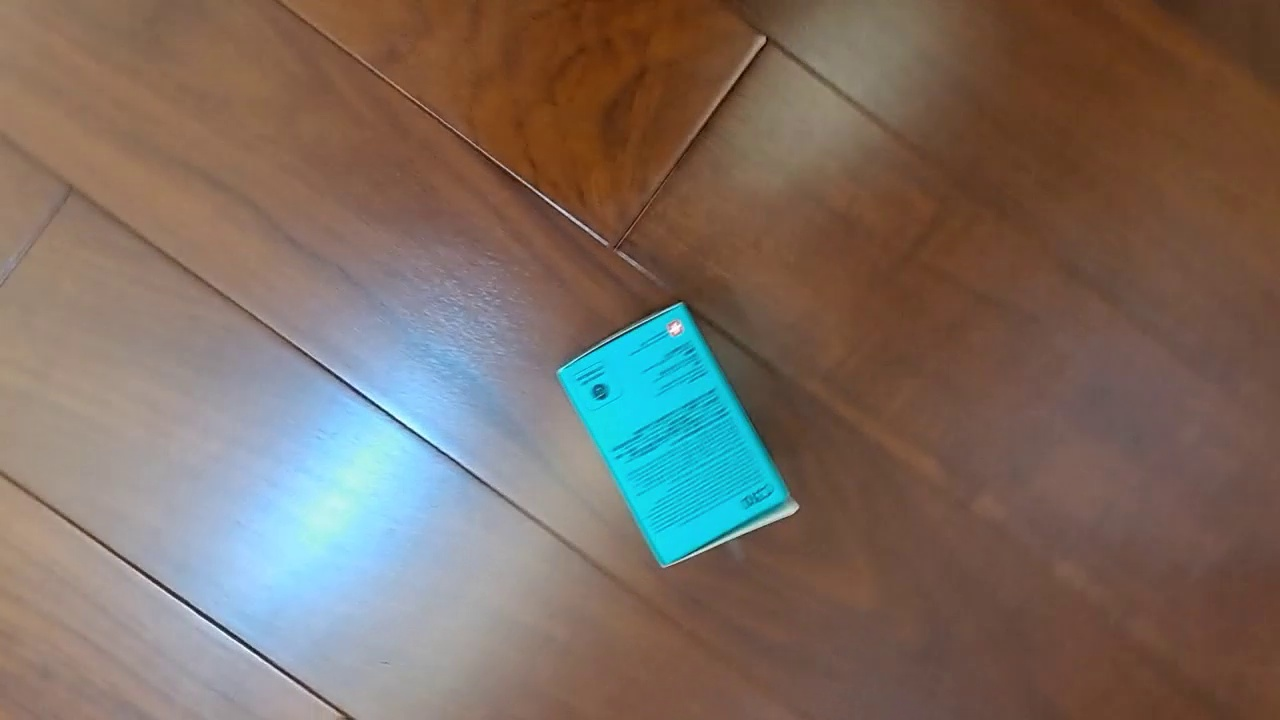webcam: (554, 300, 801, 570)
